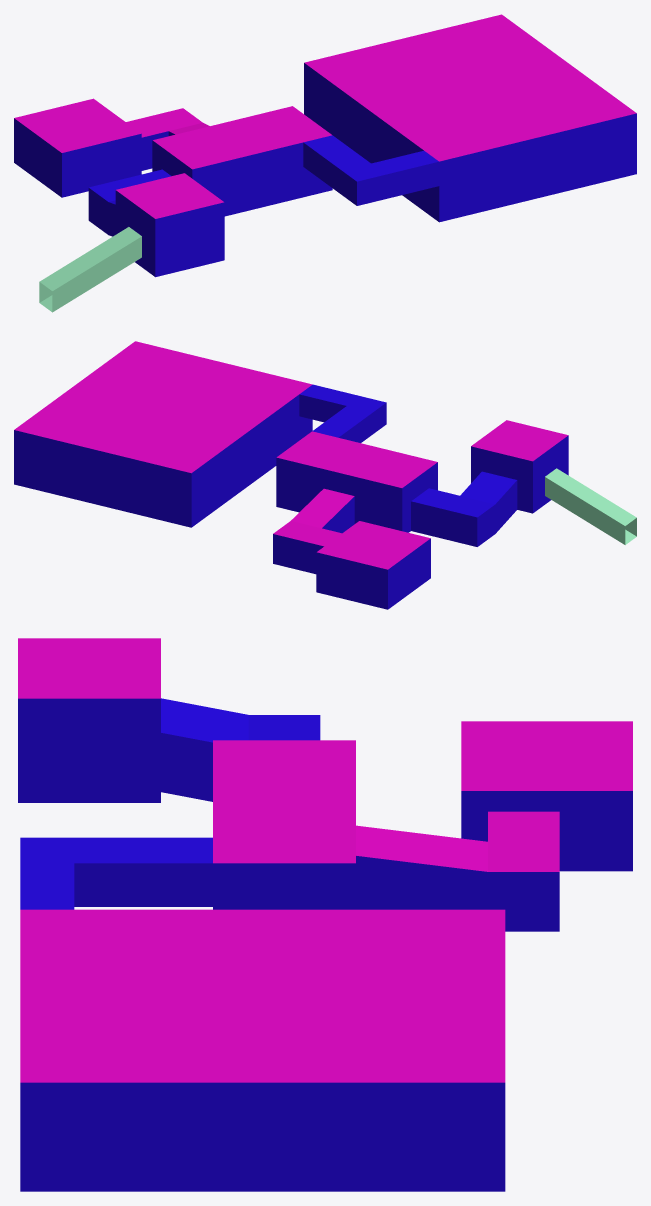
File: Spook Monks Map.fbx
3 views of the same model, one above another, from view 1: azimuth 30°, elevation 25°; view 2: azimuth 150°, elevation 25°; view 3: azimuth 270°, elevation 25° (orthographic). The views are drawn at different scales.
Visible parts, largest first — view 1: Cube; view 2: Cube; view 3: Cube.
Boxes of the visible parts, x1,y1,x2,y2 form: Cube: [14, 14, 636, 312]; Cube: [14, 341, 636, 609]; Cube: [18, 638, 632, 1191].
Size of the model in its own units: 1655 by 225 by 859.
